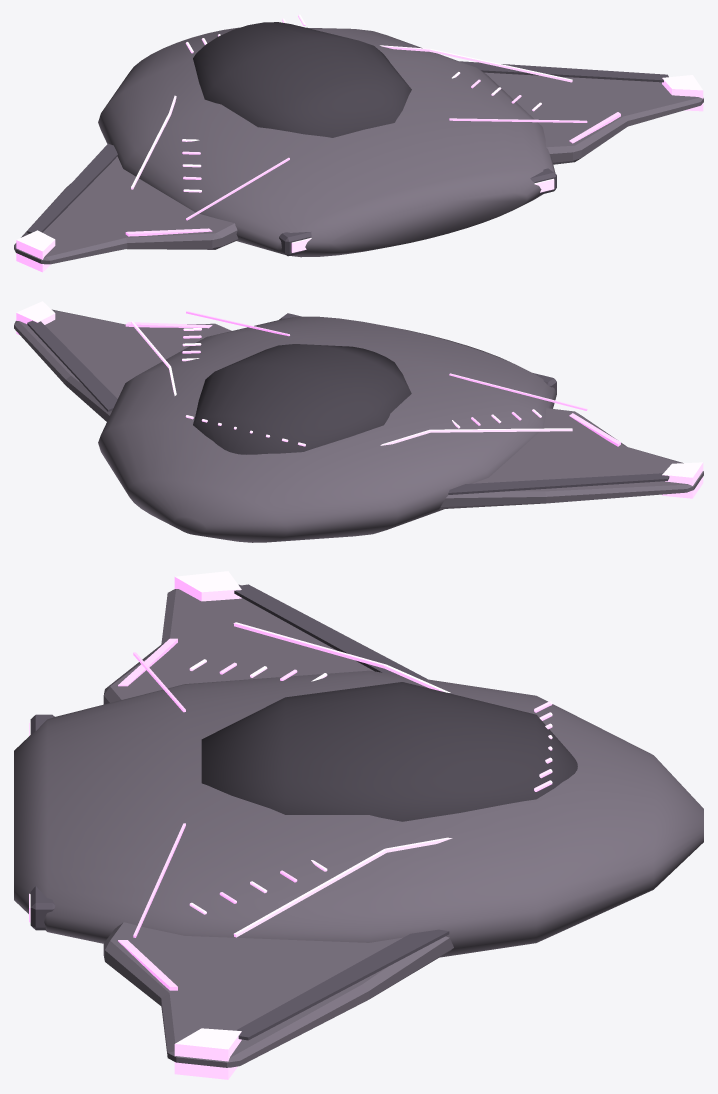
File: ufo_harvester.glb
3 views of the same model, one above another, from view 1: azimuth 30°, elevation 25°; view 2: azimuth 150°, elevation 25°; view 3: azimuth 270°, elevation 25° (orthographic). The views are drawn at different scales.
Visible parts, largest first — view 1: Lod_harvester; view 2: Lod_harvester; view 3: Lod_harvester.
Part boxes in pixels (left/top/right/bottom): Lod_harvester: left=14, top=14, right=703, bottom=272; Lod_harvester: left=14, top=301, right=703, bottom=542; Lod_harvester: left=14, top=571, right=703, bottom=1079.
Bounding box in the file's own units: 33.88 × 6.4 × 20.6.
